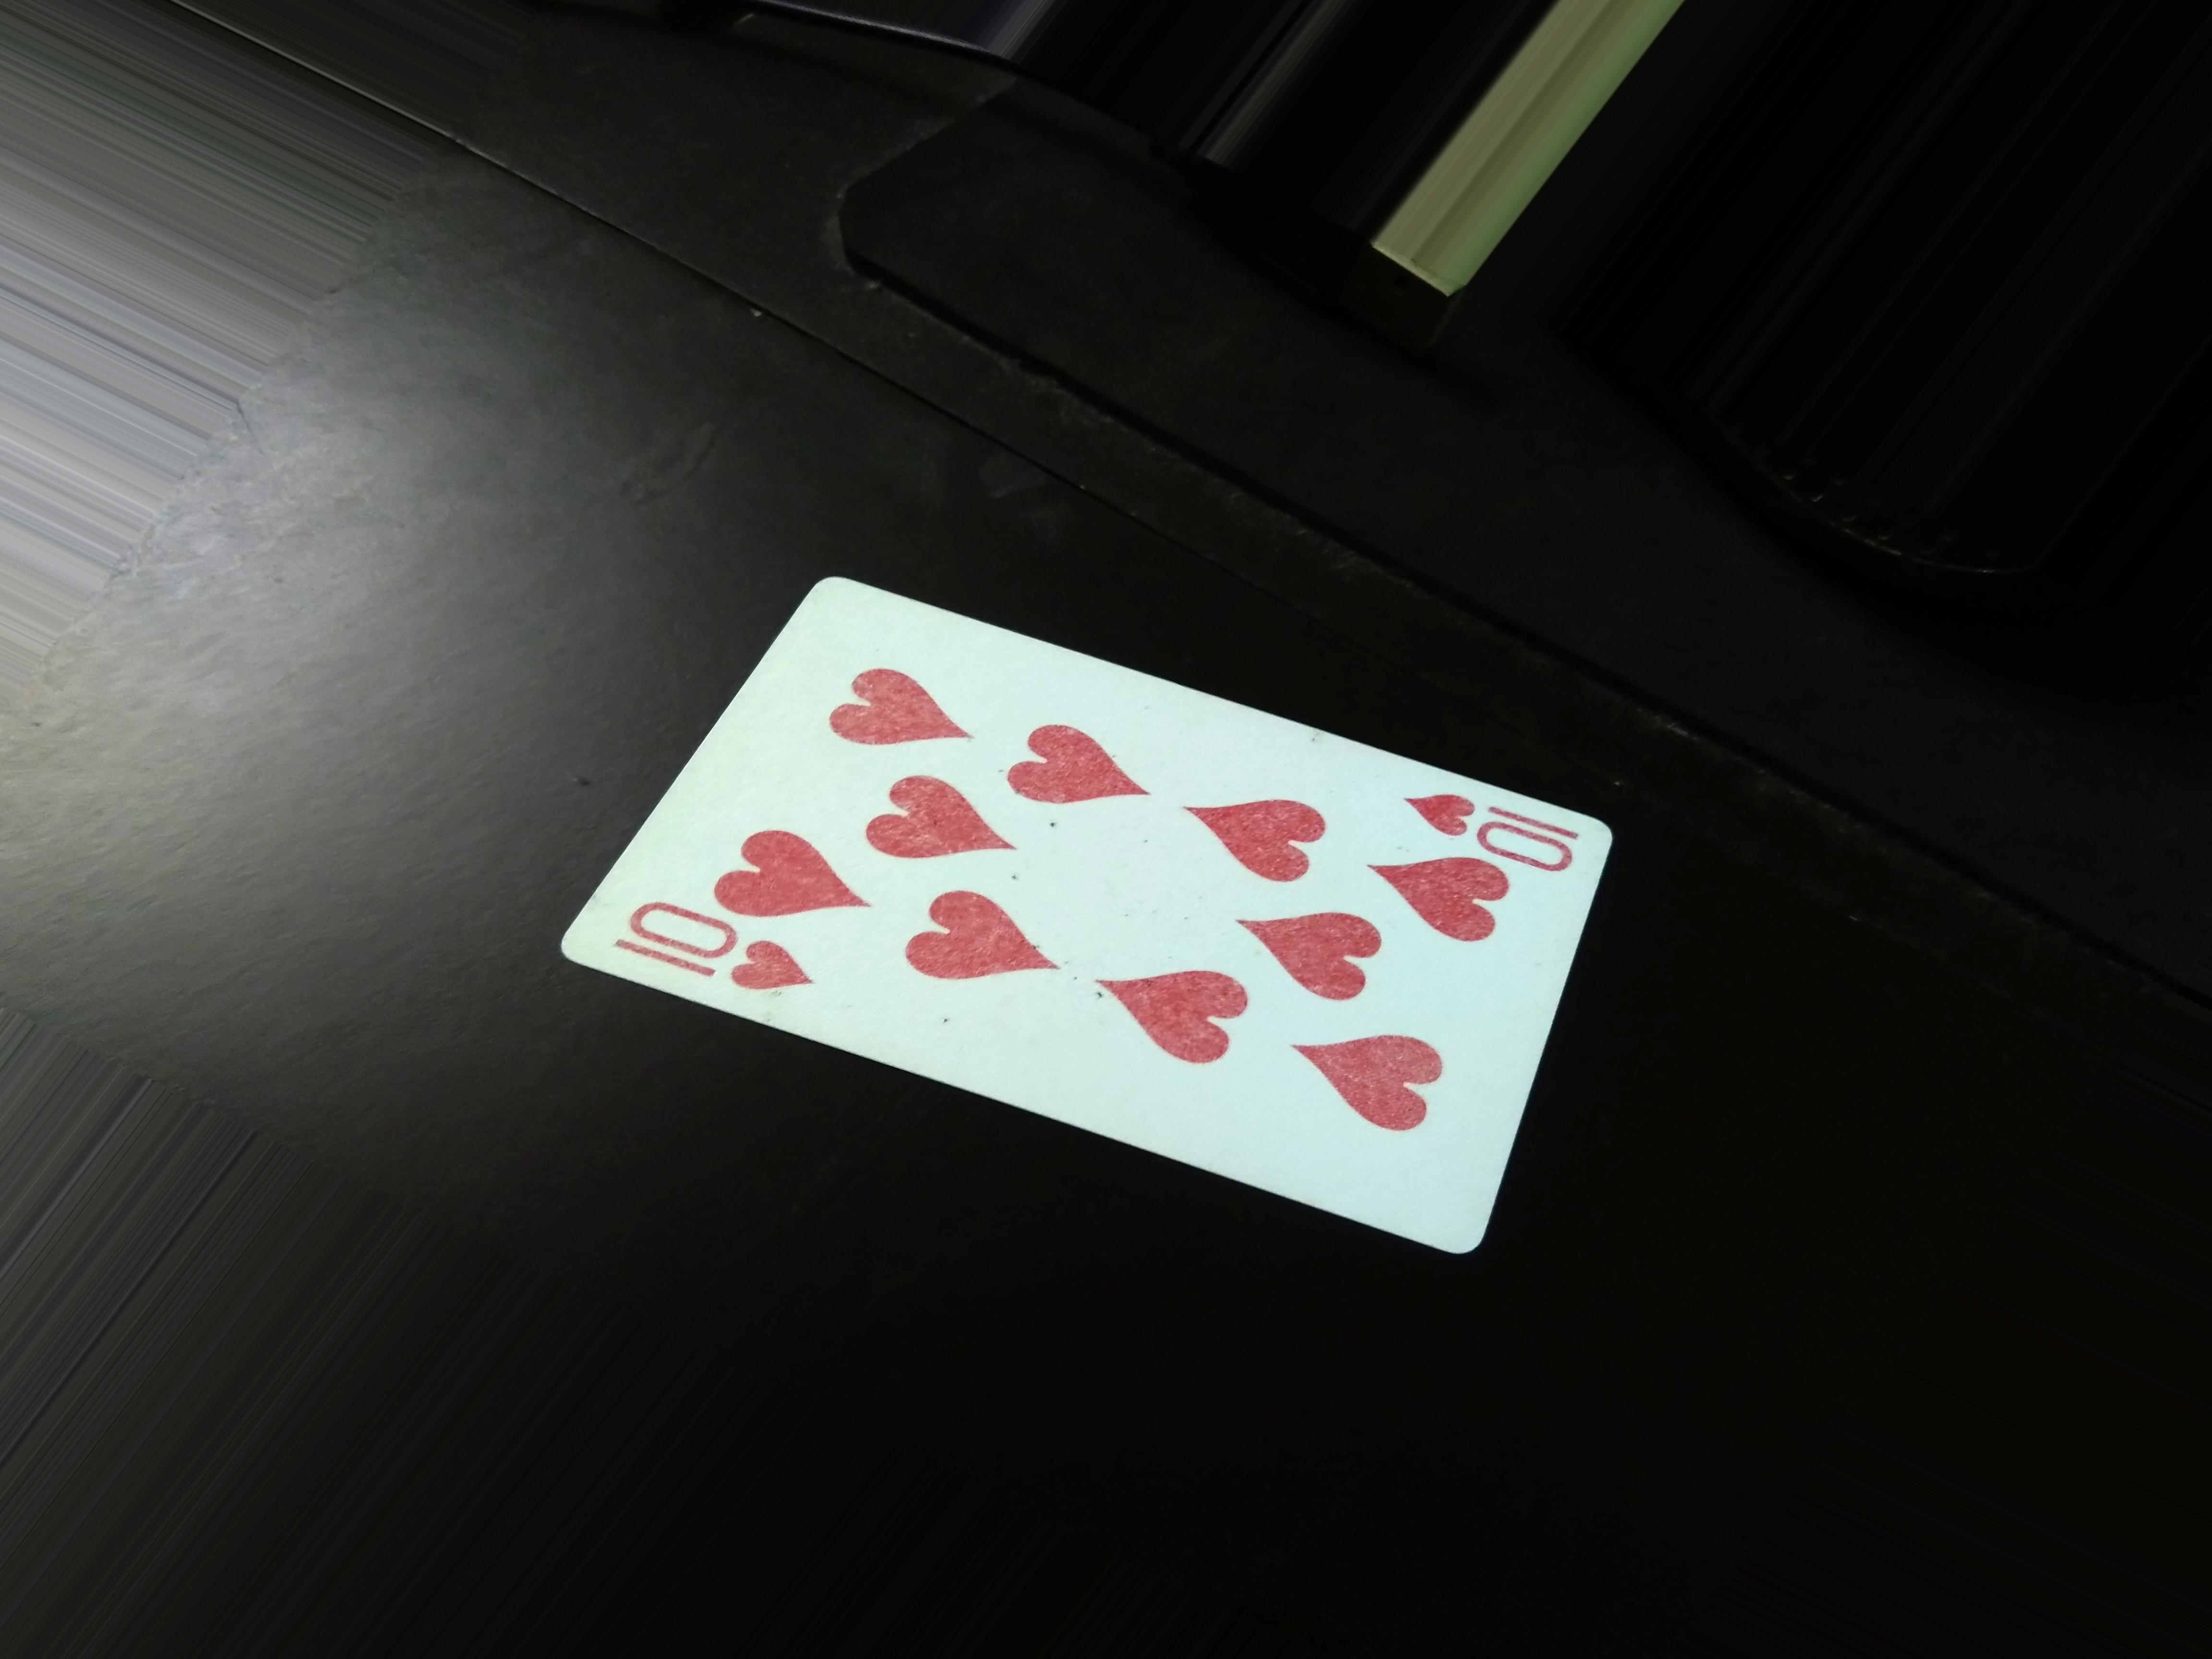10H: (611, 884, 810, 1014)
